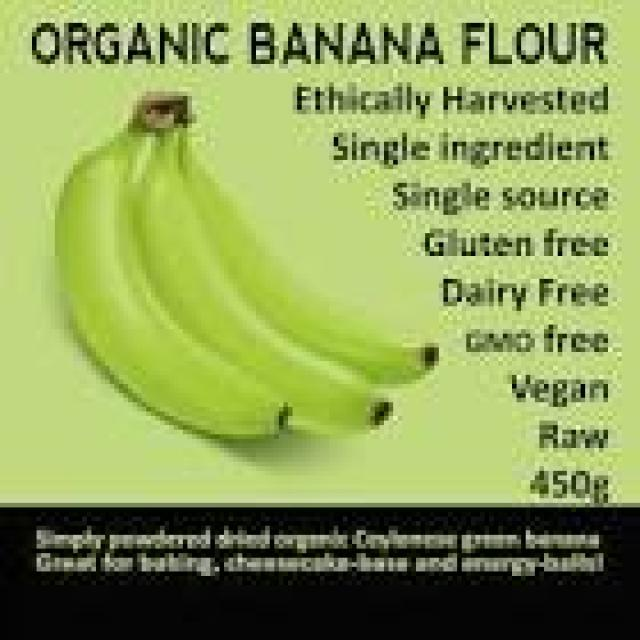banana: (133, 128, 393, 429), (55, 128, 287, 438), (179, 133, 438, 383)
